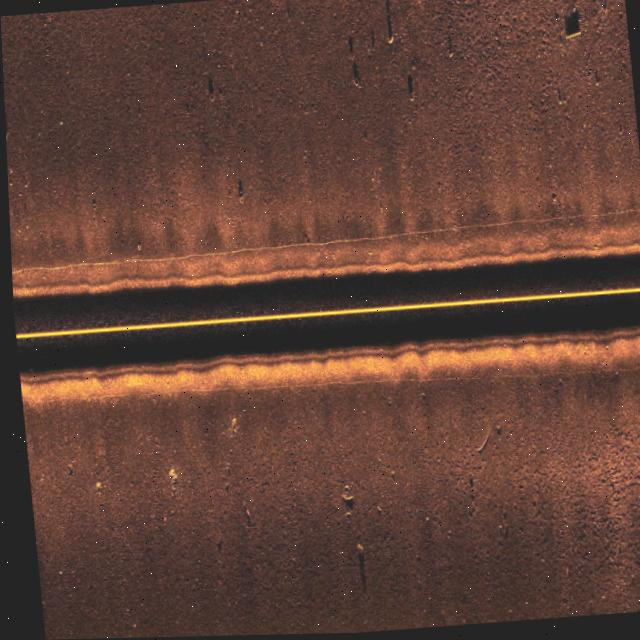mine: (346, 542, 366, 593), (560, 11, 583, 44)
